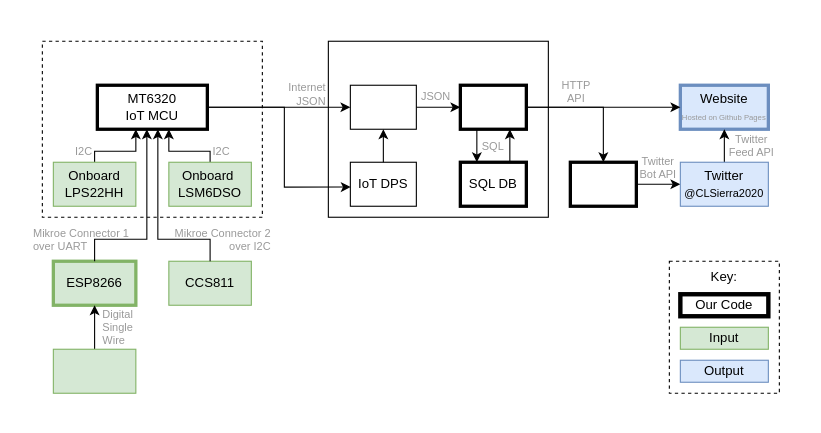
The diagram is 821 pixels wide and 433 high, and some of its shapes have lost their labels. The shapes that lost their labels are listed below. From the top down, each one's box as (x1, y1, x2, y2) in pixels, then its label:
(349, 84, 416, 129): IoT Hub
(458, 83, 527, 130): Azure Functions
(41, 40, 262, 217): Avnet Azure Sphere MT3620 Starter Kit
(327, 40, 548, 217): Microsoft Azure
(568, 160, 637, 207): Twitter Bot
(52, 348, 136, 393): DHT11
